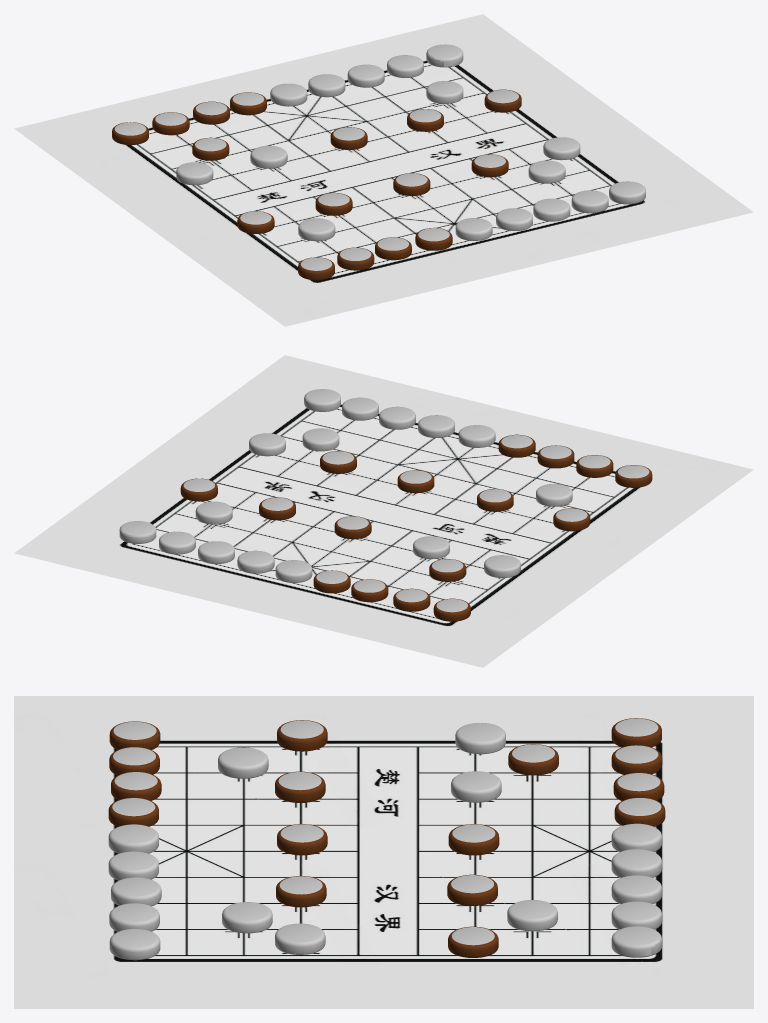
Rendered from xiangqi.fbx.
The picture shows the model from 3 angles, top to bottom: view 1: azimuth 30°, elevation 25°; view 2: azimuth 150°, elevation 25°; view 3: azimuth 270°, elevation 25°; orthographic projection. The views are drawn at different scales.
Visible parts, largest first — view 1: 平面, hongma, hongpao.002, heizhu.001, heiche, hongma.001, heishi, heima.001, heijiang, hongxiang, hongpao.001, hongbing.003 (+21 smaller); view 2: 平面, hongpao.002, hongbing.004, heishi.001, hongxiang.001, heishi, hongbing.002, heixiang.001, heipao, heiche.001, hongshi.001, heizhu.004 (+21 smaller); view 3: 平面, heiche, heizhu.002, hongche, hongbing.002, hongpao.002, heizhu.001, heipao.001, hongbing.001, hongpao.001, hongbing.004, heizhu.004 (+21 smaller).
Boxes of the visible parts, x1,y1,x2,y2 form: 平面: (14, 14, 753, 326); hongma: (571, 190, 608, 213); hongpao.002: (528, 160, 565, 183); heizhu.001: (250, 145, 287, 168); heiche: (426, 44, 463, 67); hongma.001: (337, 247, 374, 270); heishi: (308, 74, 345, 97); heima.001: (152, 112, 189, 135); heijiang: (270, 83, 307, 106); hongxiang: (533, 198, 570, 221); hongpao.001: (298, 218, 335, 241); hongbing.003: (315, 192, 352, 215); 平面: (14, 355, 753, 667); hongpao.002: (302, 428, 339, 451); hongbing.004: (553, 508, 590, 531); heishi.001: (313, 570, 350, 593); hongxiang.001: (537, 445, 574, 468); heishi: (237, 550, 274, 573); hongbing.002: (397, 470, 434, 493); heixiang.001: (351, 579, 388, 602); heipao: (195, 501, 232, 524); heiche.001: (433, 598, 470, 621); hongshi.001: (498, 434, 535, 457); heizhu.004: (180, 478, 217, 501); 平面: (14, 696, 753, 1008); heiche: (611, 926, 662, 957); heizhu.002: (448, 824, 499, 855); hongche: (109, 928, 160, 960); hongbing.002: (277, 824, 327, 855); hongpao.002: (222, 902, 272, 933); heizhu.001: (451, 771, 501, 802); heipao.001: (508, 744, 558, 775); hongbing.001: (276, 876, 326, 907); hongpao.001: (218, 747, 268, 778); hongbing.004: (277, 720, 327, 751); heizhu.004: (448, 926, 498, 957).
Bounding box in the file's own units: 3934 × 117 × 3934.
